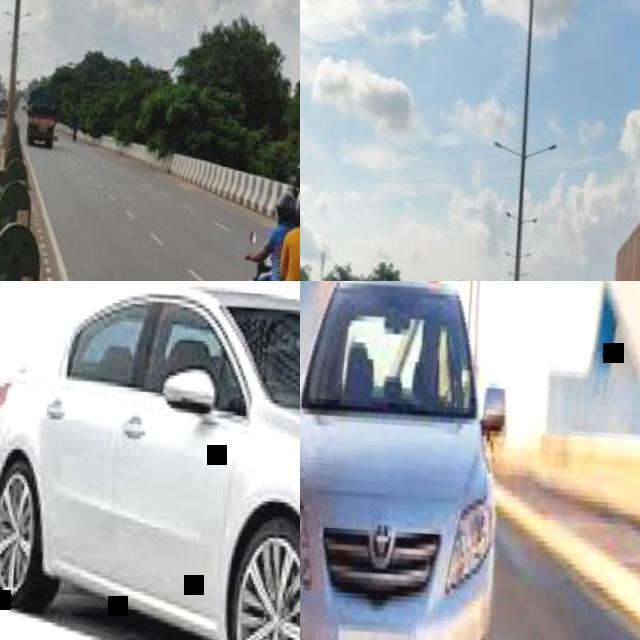car: (4, 279, 501, 639)
